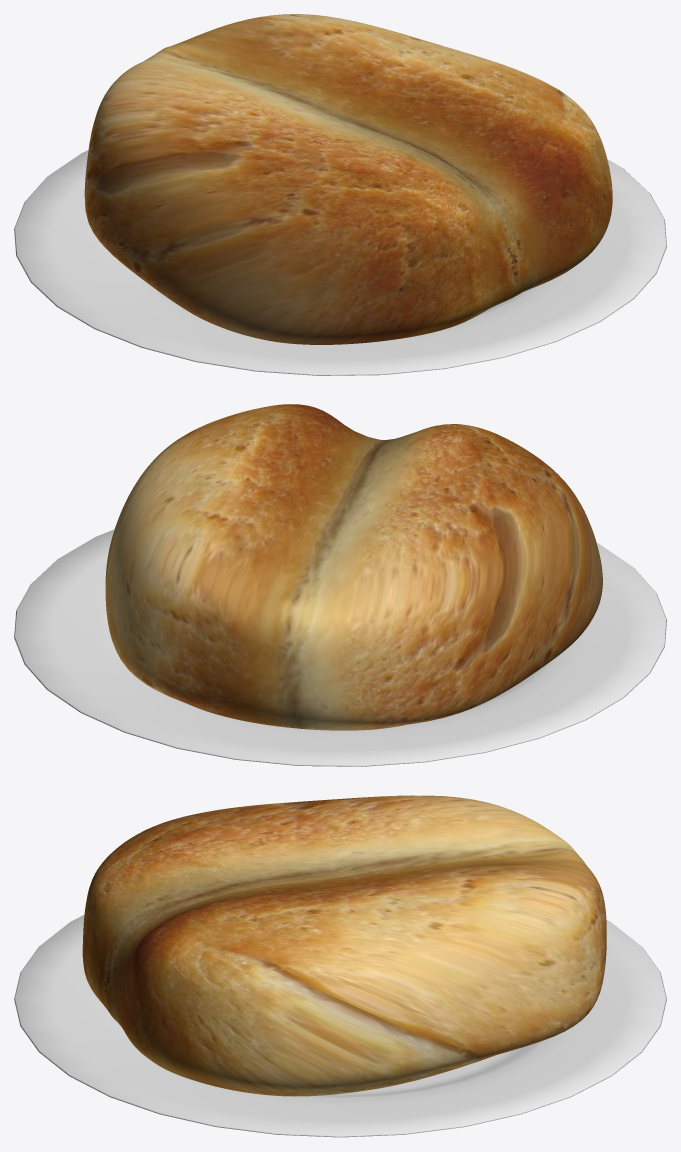
File: marraketa.fbx
3 renders of one model, top to bottom at view 1: azimuth 30°, elevation 25°; view 2: azimuth 150°, elevation 25°; view 3: azimuth 270°, elevation 25°, orthographic.
Visible parts, largest first — view 1: Circle, plato; view 2: Circle, plato; view 3: Circle, plato.
Boxes of the visible parts, box(x1,y1,x2,y2) form: Circle: box(84, 14, 612, 344); plato: box(14, 150, 666, 375); Circle: box(105, 404, 602, 730); plato: box(14, 529, 666, 766); Circle: box(82, 795, 606, 1096); plato: box(14, 915, 666, 1137).
Size of the model in its own units: 841 by 243 by 841.
